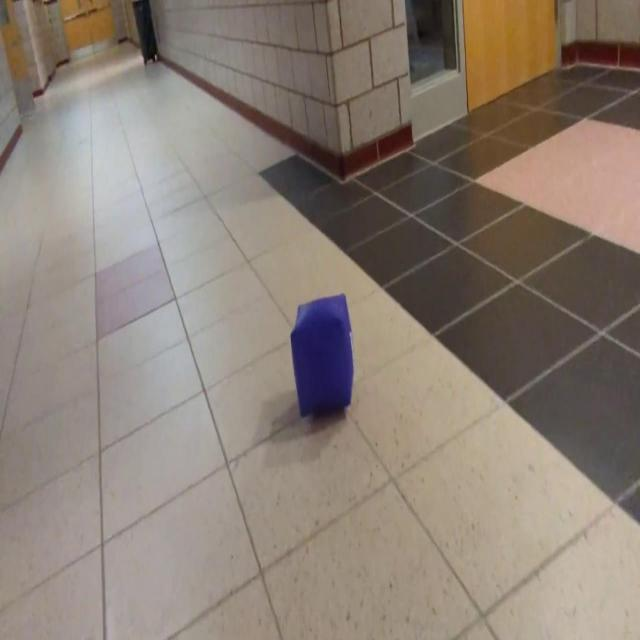frc_cube: (292, 292, 354, 414)
